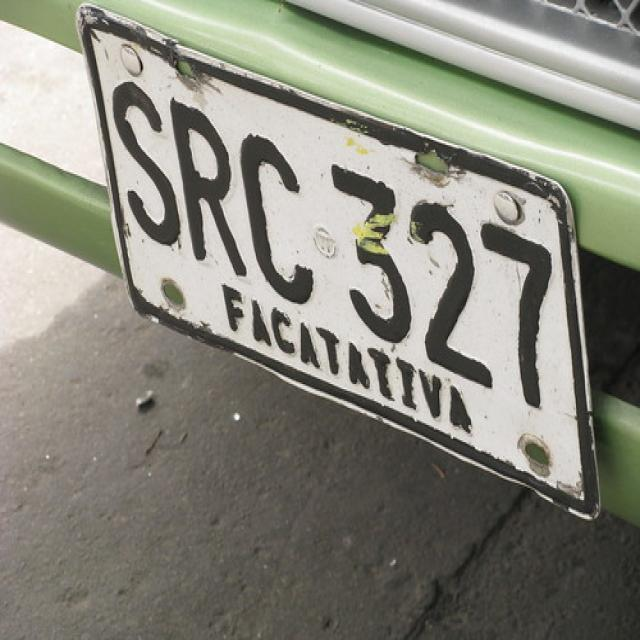placas: (108, 48, 570, 425)
